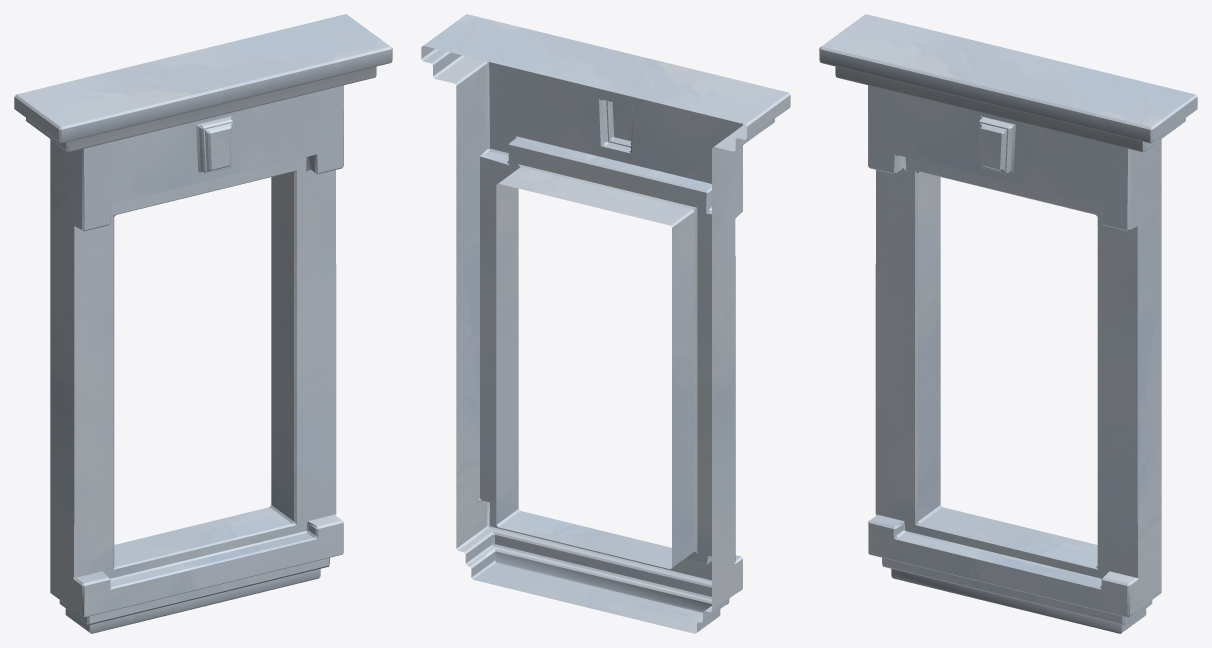
File: Window 2.fbx
3 views of the same model, side by side, from view 1: azimuth 30°, elevation 25°; view 2: azimuth 150°, elevation 25°; view 3: azimuth 330°, elevation 25° (orthographic). The views are drawn at different scales.
Parts seen in each view (by area): view 1: Window 2; view 2: Window 2; view 3: Window 2.
Boxes of the visible parts, left/top/right/bottom form: Window 2: left=14, top=14, right=392, bottom=633; Window 2: left=421, top=14, right=790, bottom=633; Window 2: left=819, top=14, right=1197, bottom=633.
Size of the model in its own units: 93.8 by 144 by 22.18.
